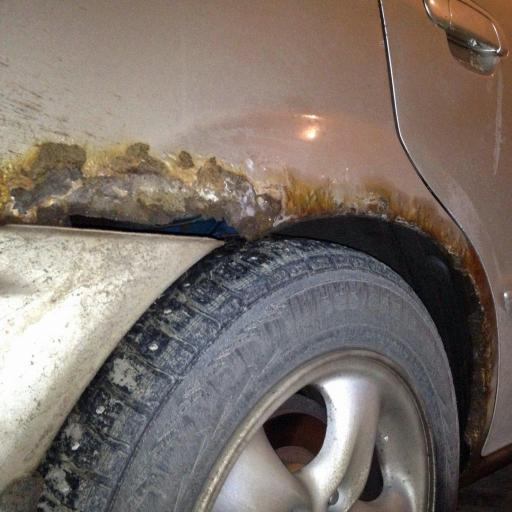segmentation: (283, 172, 497, 479), (0, 141, 312, 238)
